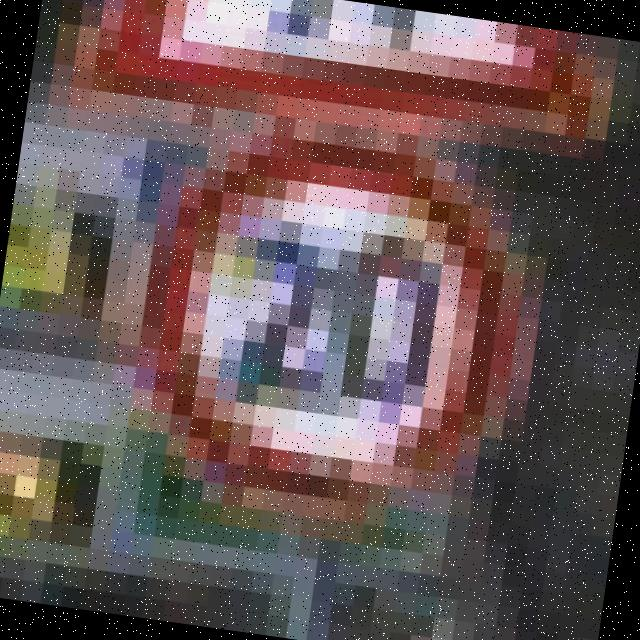Ograniczenie predkosci do 20: (116, 112, 552, 530)
